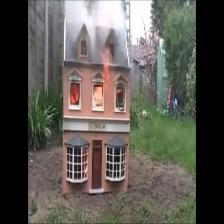fire: (94, 74, 106, 109)
